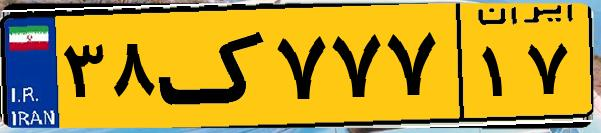1: (475, 38, 525, 113)
3: (57, 26, 110, 100)
7: (270, 28, 330, 110), (385, 28, 445, 110), (330, 28, 385, 110), (525, 38, 570, 115)
8: (110, 28, 158, 98)
ک: (158, 12, 270, 120)
